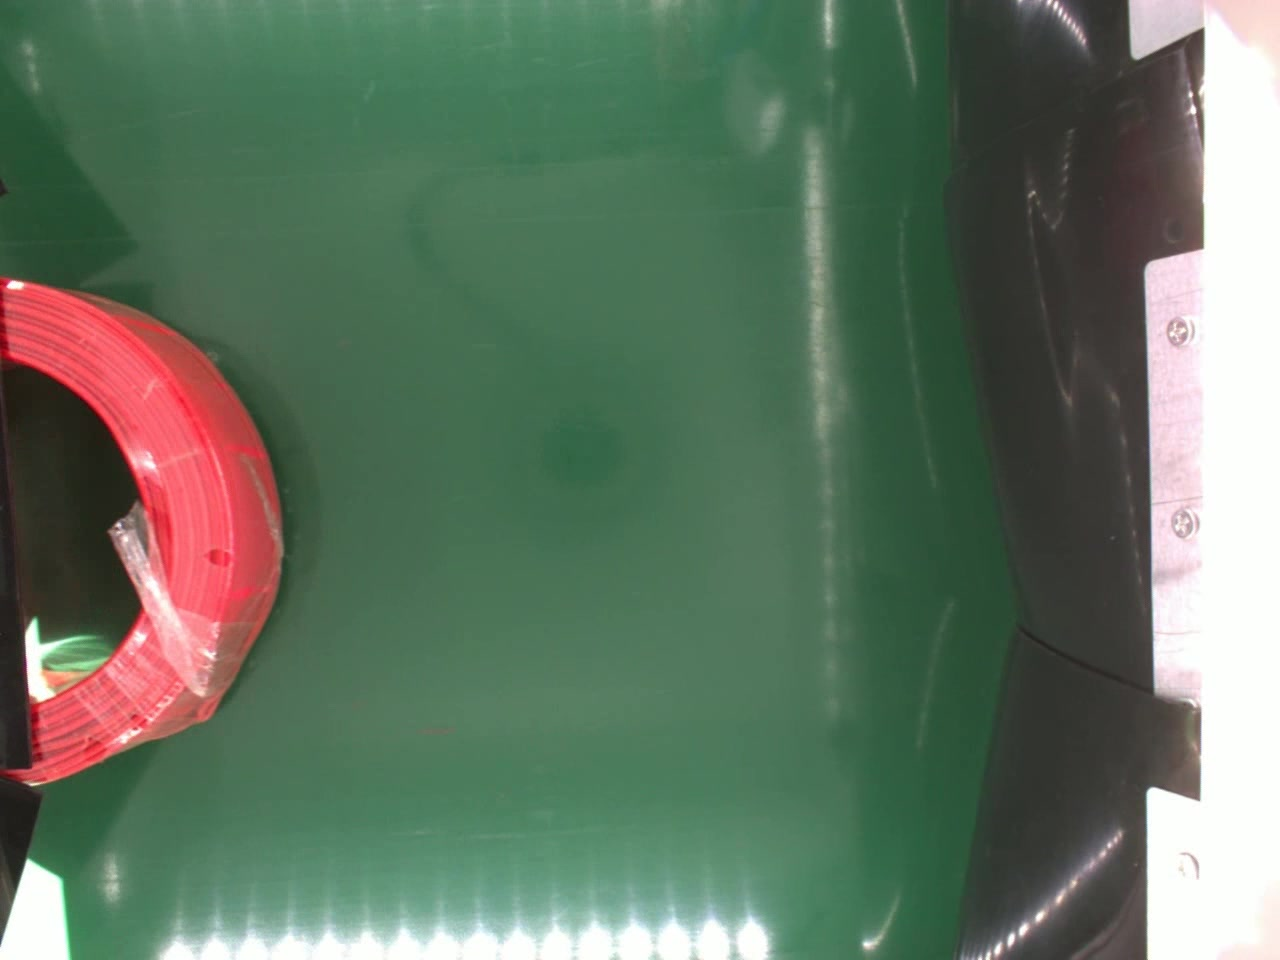red: (0, 271, 286, 789)
